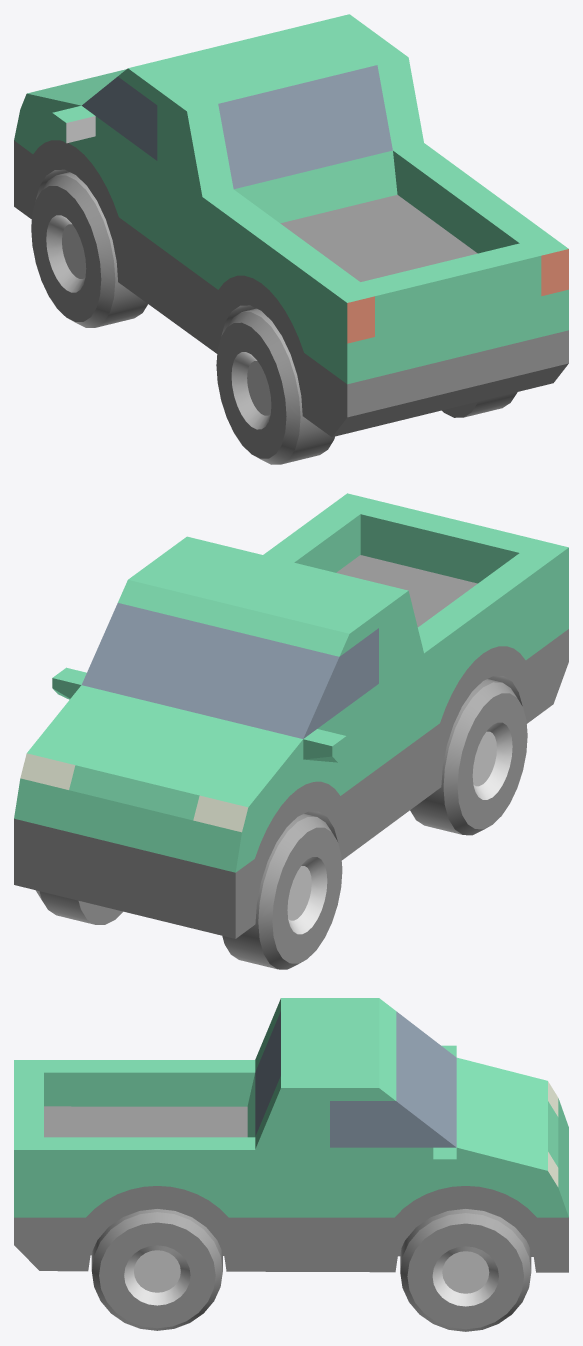
The model's file is carTruck.gltf.
3 renders of one model, top to bottom at view 1: azimuth 30°, elevation 25°; view 2: azimuth 150°, elevation 25°; view 3: azimuth 270°, elevation 25°, orthographic. The views are drawn at different scales.
Visible parts, largest first — view 1: body 14, wheelBackLeft 14, wheelFrontLeft 14, wheelBackRight 14; view 2: body 14, wheelBackLeft 14, wheelFrontLeft 14, wheelFrontRight 14; view 3: body 14, wheelFrontRight 14, wheelBackRight 14.
Boxes of the visible parts, box(x1,y1,x2,y2) form: body 14: box(14, 14, 568, 436); wheelBackLeft 14: box(216, 308, 334, 464); wheelFrontLeft 14: box(31, 172, 147, 327); wheelBackRight 14: box(442, 392, 517, 417); body 14: box(14, 493, 568, 938); wheelBackLeft 14: box(410, 679, 527, 835); wheelFrontLeft 14: box(222, 814, 342, 969); wheelFrontRight 14: box(36, 890, 122, 924); body 14: box(14, 998, 568, 1272); wheelFrontRight 14: box(400, 1209, 531, 1331); wheelBackRight 14: box(91, 1209, 222, 1330).
Size of the model in its own units: 0.575 by 0.5766 by 1.18.
